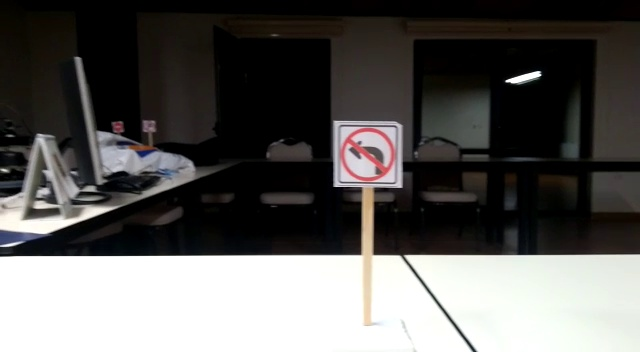sola_donulmez: (338, 125, 404, 187)
